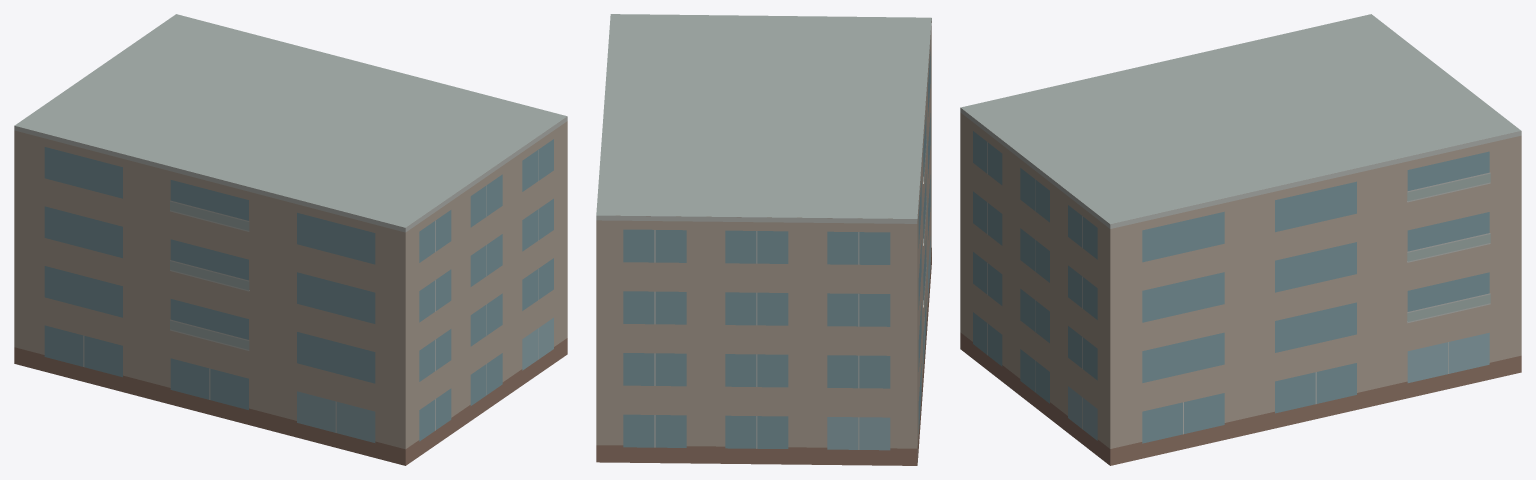
Rendered from survey-upis-32809871.glb.
3 renders of one model, left to right at view 1: azimuth 30°, elevation 25°; view 2: azimuth 150°, elevation 25°; view 3: azimuth 270°, elevation 25°, orthographic. The views are drawn at different scales.
Visible parts, largest first — view 1: survey-upis-32809871.tmp; view 2: survey-upis-32809871.tmp; view 3: survey-upis-32809871.tmp.
Part boxes in pixels (x1,y1,x2,y2): survey-upis-32809871.tmp: [14, 14, 567, 465]; survey-upis-32809871.tmp: [596, 14, 931, 465]; survey-upis-32809871.tmp: [960, 14, 1521, 465].
Bounding box in the file's own units: 22.97 × 12.3 × 25.9.
